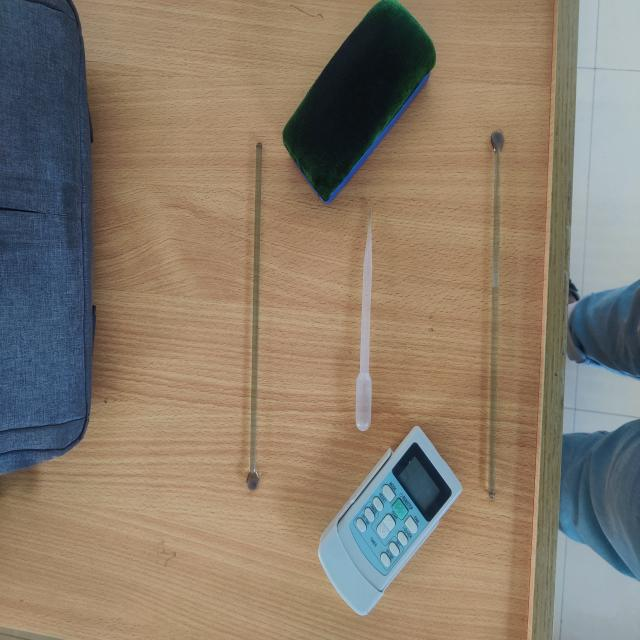Glass_Rod: (450, 92, 538, 507), (215, 114, 286, 522)
Pipette: (339, 190, 408, 461)
